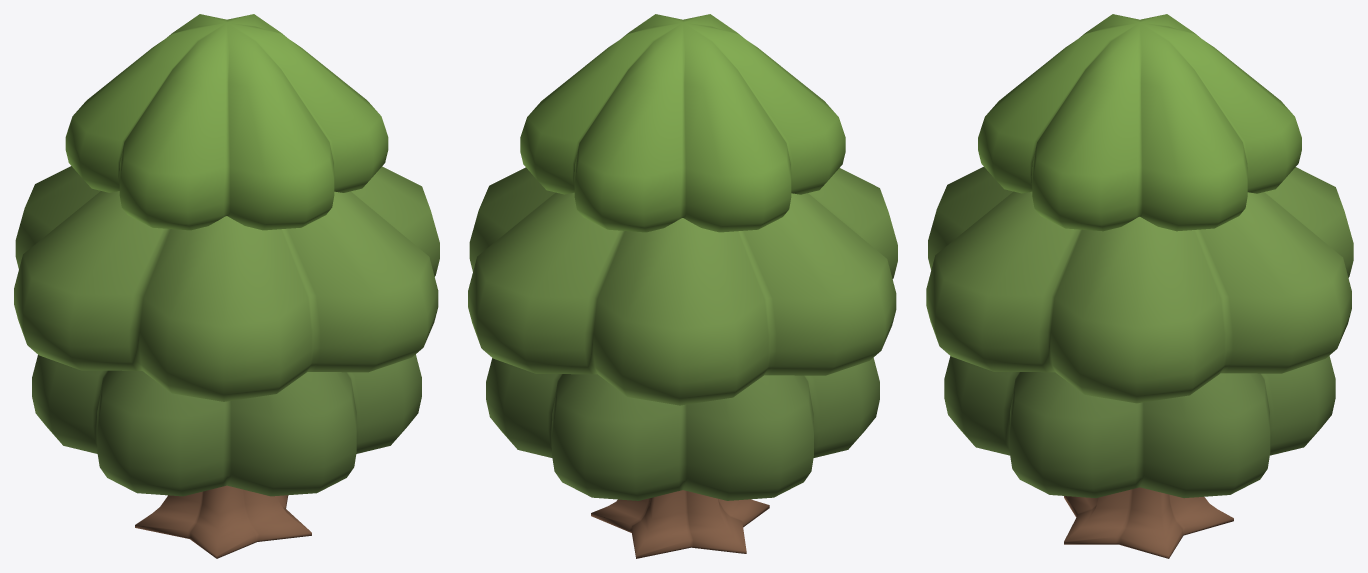
Rendered from tree 3.fbx.
3 renders of one model, left to right at view 1: azimuth 30°, elevation 25°; view 2: azimuth 150°, elevation 25°; view 3: azimuth 270°, elevation 25°, orthographic.
Parts seen in each view (by area): view 1: pine leaves.004, pine leaves.005, pine leaves.003, pine trunk.002; view 2: pine leaves.004, pine leaves.005, pine leaves.003, pine trunk.002; view 3: pine leaves.004, pine leaves.005, pine leaves.003, pine trunk.002.
Boxes of the visible parts, x1,y1,x2,y2 form: pine leaves.004: (14,166,439,401); pine leaves.005: (65,14,388,230); pine leaves.003: (32,354,421,496); pine trunk.002: (135,485,311,558); pine leaves.004: (468,167,897,405); pine leaves.005: (520,14,845,232); pine leaves.003: (486,358,879,500); pine trunk.002: (591,490,769,558); pine leaves.004: (926,166,1353,403); pine leaves.005: (978,14,1301,231); pine leaves.003: (944,356,1335,498); pine trunk.002: (1064,487,1233,558).
Size of the model in its own units: 2635 by 3097 by 2404.
